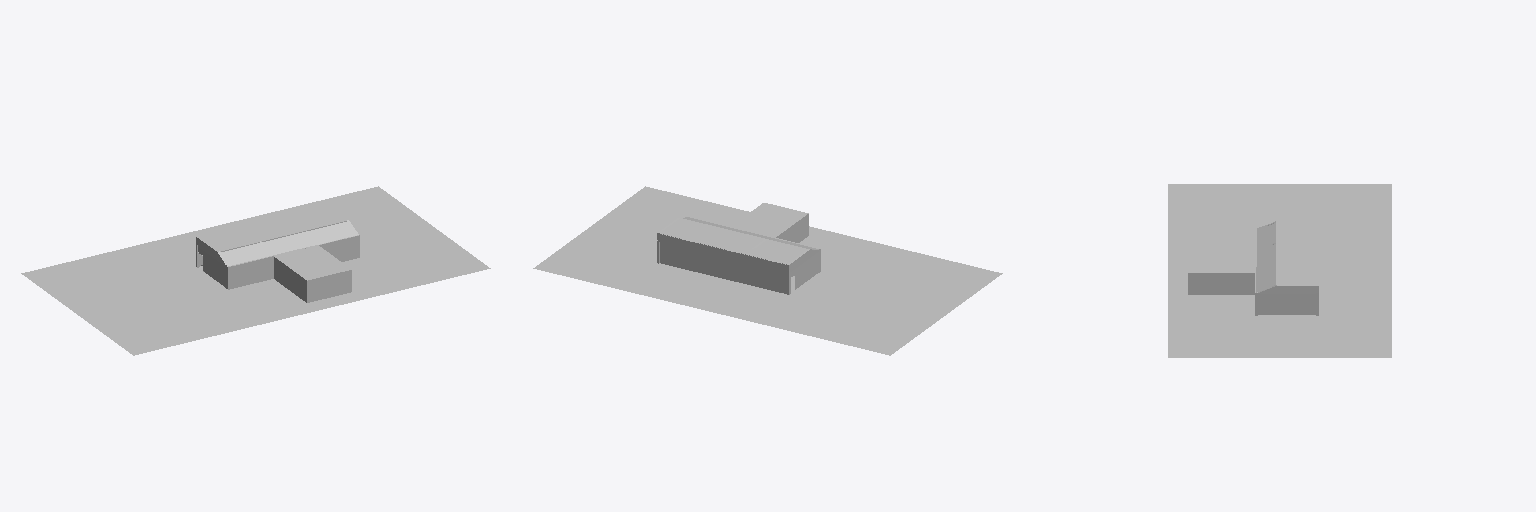
File: estructura reducida.obj
3 views of the same model, side by side, from view 1: azimuth 30°, elevation 25°; view 2: azimuth 150°, elevation 25°; view 3: azimuth 270°, elevation 25° (orthographic).
Visible parts, largest first — view 1: estructura reducida; view 2: estructura reducida; view 3: estructura reducida.
Boxes of the visible parts, <box> form: estructura reducida: <box>21,186,490,355</box>; estructura reducida: <box>533,186,1002,355</box>; estructura reducida: <box>1168,184,1391,357</box>.
Size of the model in its own units: 28269 by 2299 by 15387.